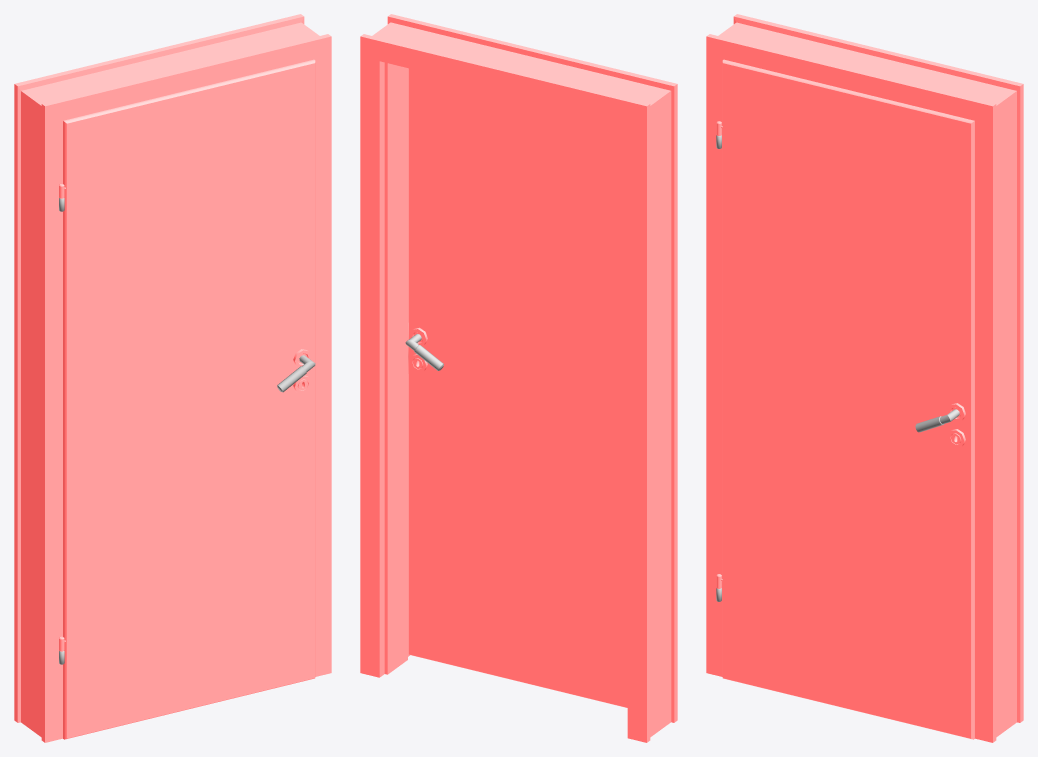
File: doorred.gltf
3 renders of one model, left to right at view 1: azimuth 30°, elevation 25°; view 2: azimuth 150°, elevation 25°; view 3: azimuth 330°, elevation 25°, orthographic.
Parts seen in each view (by area): view 1: Plane001, Plane002, Plane001_1; view 2: Plane001, Plane002; view 3: Plane001, Plane002, Plane001_1.
Part boxes in pixels (bbox=[...]): Plane001: bbox=[63, 59, 315, 739]; Plane002: bbox=[14, 14, 331, 742]; Plane001_1: bbox=[59, 184, 311, 651]; Plane001: bbox=[408, 68, 627, 707]; Plane002: bbox=[360, 14, 677, 742]; Plane001: bbox=[722, 59, 974, 739]; Plane002: bbox=[706, 14, 1023, 742]; Plane001_1: bbox=[716, 121, 965, 588].
Bounding box in the file's own units: 0.97 × 2.06 × 0.2616.
